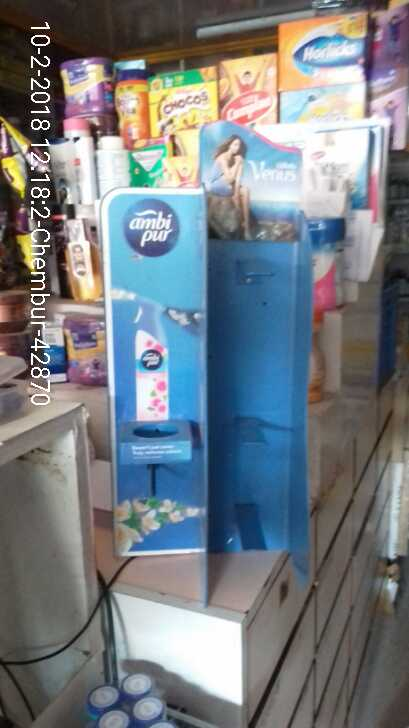reject: (167, 218, 271, 351)
